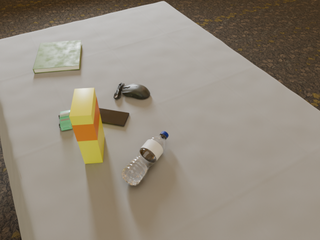book: (33, 40, 82, 73)
bottle: (121, 131, 168, 186)
box: (69, 88, 104, 164)
mouse: (114, 83, 150, 99)
phone: (99, 108, 129, 126)
toy_car: (59, 110, 72, 130)
